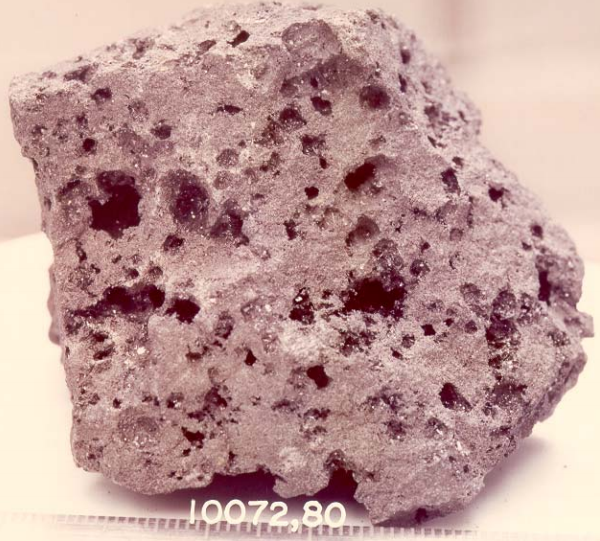Basalt: (33, 27, 561, 441), (196, 163, 502, 448)
